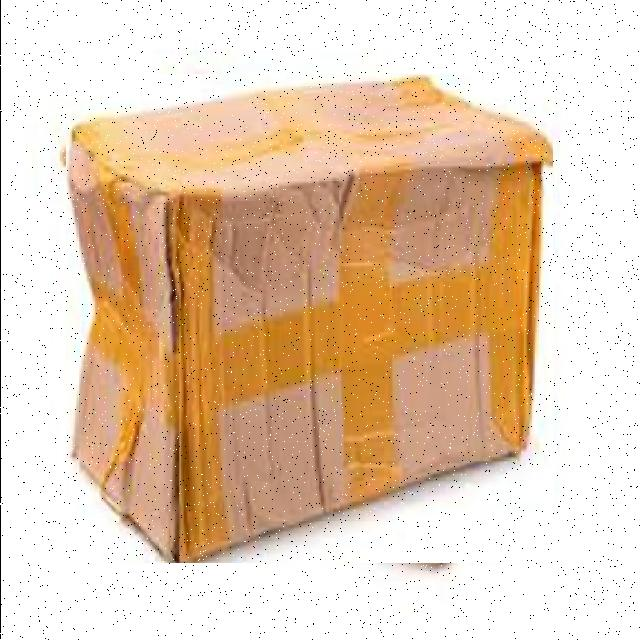normal: (65, 74, 552, 563)
